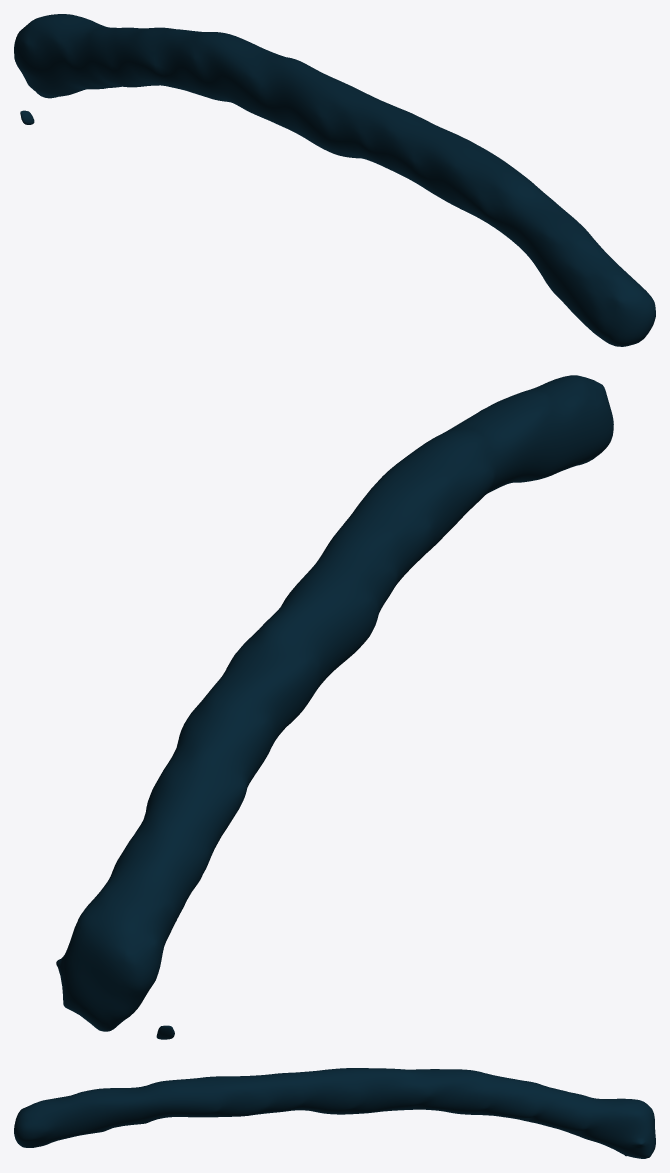
The model's file is left common carotid artery.obj.
The picture shows the model from 3 angles, top to bottom: view 1: azimuth 30°, elevation 25°; view 2: azimuth 150°, elevation 25°; view 3: azimuth 270°, elevation 25°; orthographic projection. The views are drawn at different scales.
Visible parts, largest first — view 1: grp1; view 2: grp1; view 3: grp1.
Boxes of the visible parts, x1,y1,x2,y2 form: grp1: (14, 14, 655, 346); grp1: (56, 375, 613, 1039); grp1: (14, 1068, 655, 1158).
Size of the model in its own units: 23.27 by 22.32 by 113.
